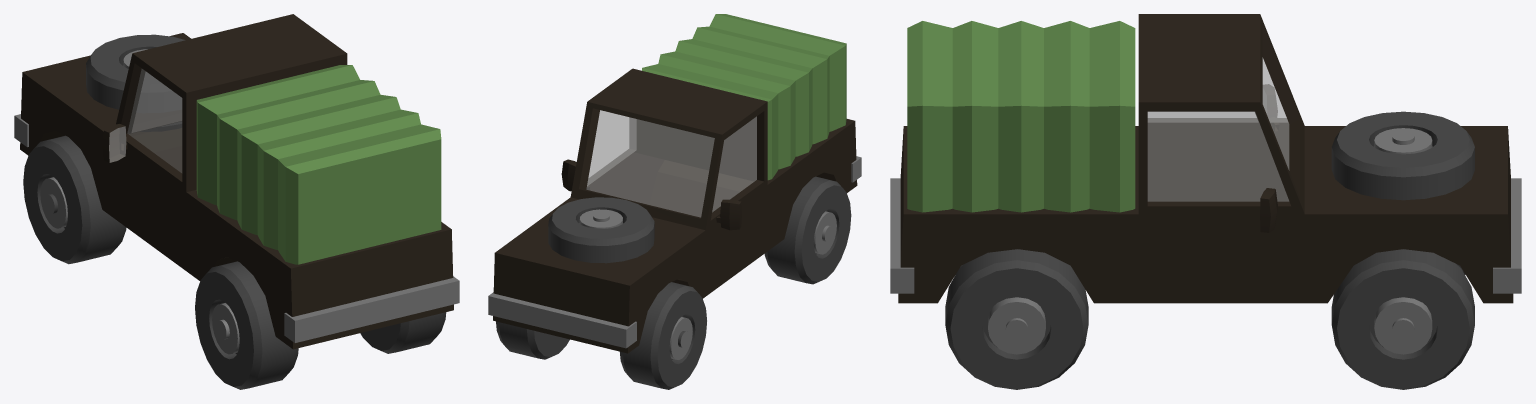
Rendered from Jipe.fbx.
3 views of the same model, side by side, from view 1: azimuth 30°, elevation 25°; view 2: azimuth 150°, elevation 25°; view 3: azimuth 270°, elevation 25° (orthographic). The views are drawn at different scales.
Parts seen in each view (by area): view 1: Jipe.003; view 2: Jipe.003; view 3: Jipe.003.
Boxes of the visible parts, x1,y1,x2,y2 form: Jipe.003: [14, 14, 459, 389]; Jipe.003: [488, 14, 861, 389]; Jipe.003: [890, 14, 1521, 389].
Size of the model in its own units: 206 by 232 by 471.
